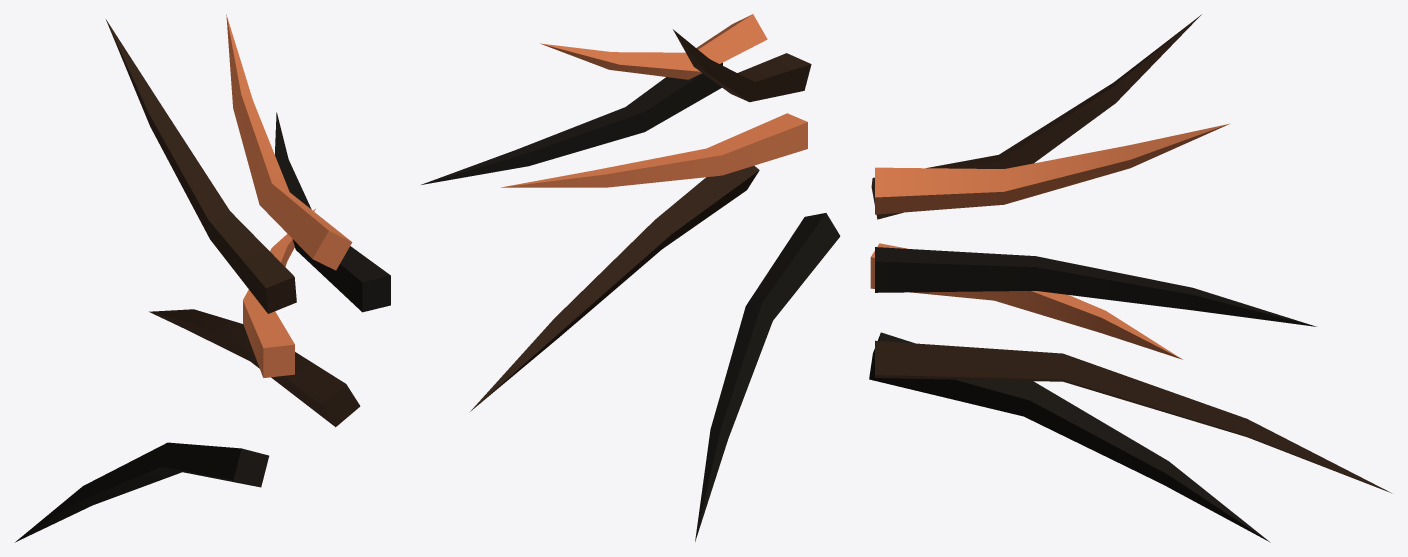
The model's file is Grass_02.FBX.
The picture shows the model from 3 angles, left to right: view 1: azimuth 30°, elevation 25°; view 2: azimuth 150°, elevation 25°; view 3: azimuth 270°, elevation 25°; orthographic projection. The views are drawn at different scales.
Visible parts, largest first — view 1: Grass_02; view 2: Grass_02; view 3: Grass_02.
Boxes of the visible parts, x1=… form: Grass_02: x1=15, y1=14, x2=390, y2=542; Grass_02: x1=421, y1=14, x2=840, y2=541; Grass_02: x1=869, y1=14, x2=1391, y2=542.
Bounding box in the file's own units: 0.8965 × 1.61 × 1.37.
